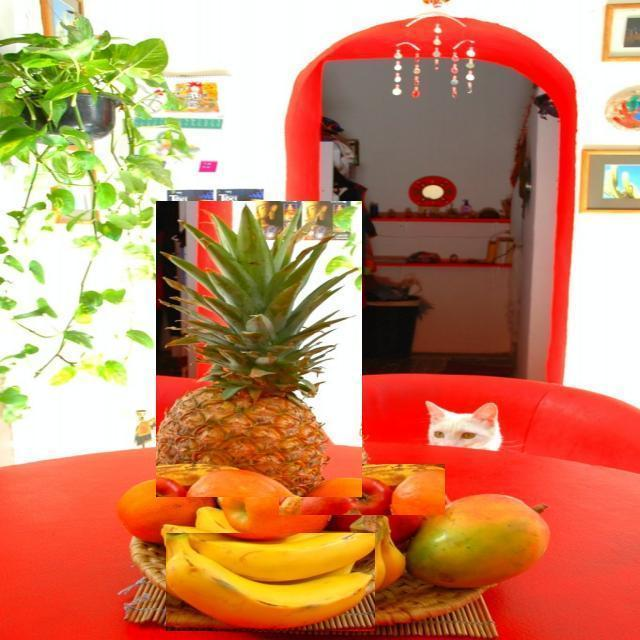Banana: (166, 533, 375, 631), (279, 464, 445, 515)
Pineapple: (156, 201, 362, 497)
